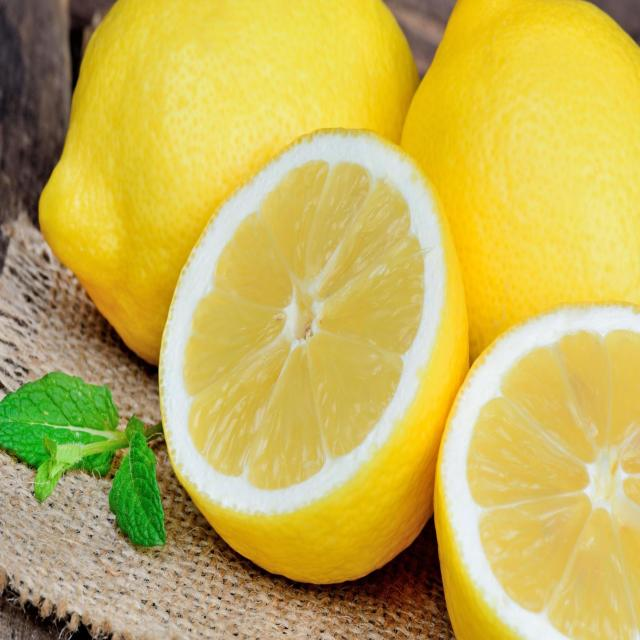lemon: (35, 1, 441, 420), (149, 107, 476, 599), (429, 297, 640, 640)
